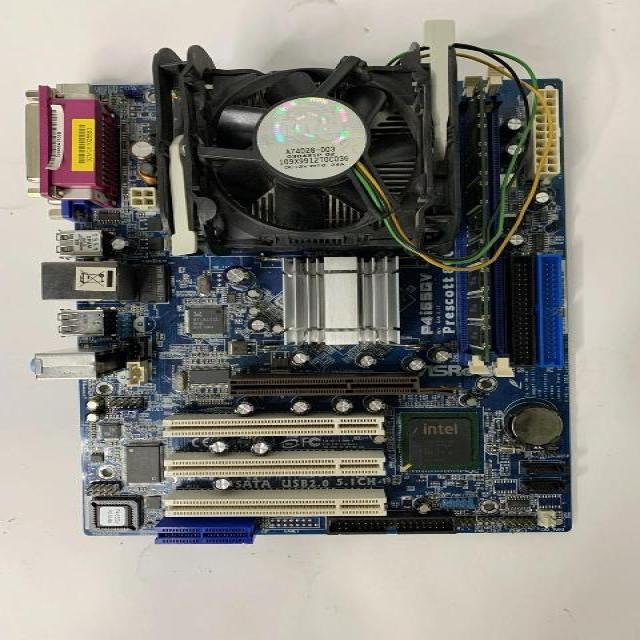CPU_Fan: (150, 41, 462, 258)
